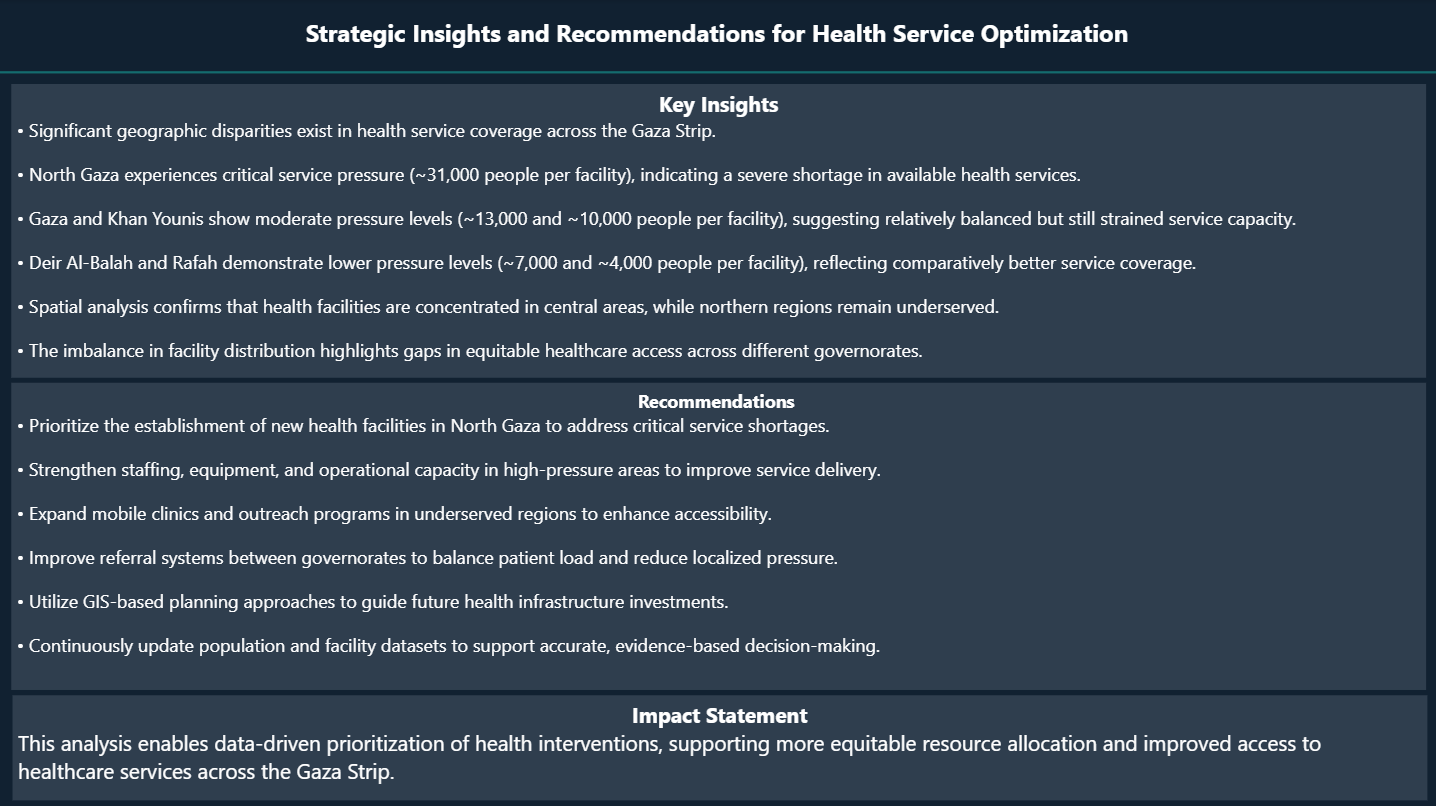

This screenshot's page, from the dashboard's own definition file:
{"tool":"powerbi","page":{"name":"Key Insights & Recommendations","canvas":[1280,720],"ordinal":4},"visuals":[{"type":"textbox","box":[245.3,10.3,787.2,55.2],"z":0},{"type":"shape","box":[0,55.2,1280.3,19.3],"z":1000},{"type":"textbox","box":[10.3,341.6,1259.7,273.5],"z":2000},{"type":"textbox","box":[10.3,75.8,1259.7,262],"z":3000},{"type":"textbox","box":[11.6,620.2,1259.7,93.7],"z":5000}]}

Visuals, with their boxes in screenshot pixels (x1, y1, x2, y2), scaled from the page's 1280x720 canvas onto the 1436x806 screenshot:
textbox: [left=275, top=12, right=1158, bottom=73]
shape: [left=0, top=62, right=1435, bottom=83]
textbox: [left=12, top=382, right=1425, bottom=689]
textbox: [left=12, top=85, right=1425, bottom=378]
textbox: [left=13, top=694, right=1426, bottom=799]
